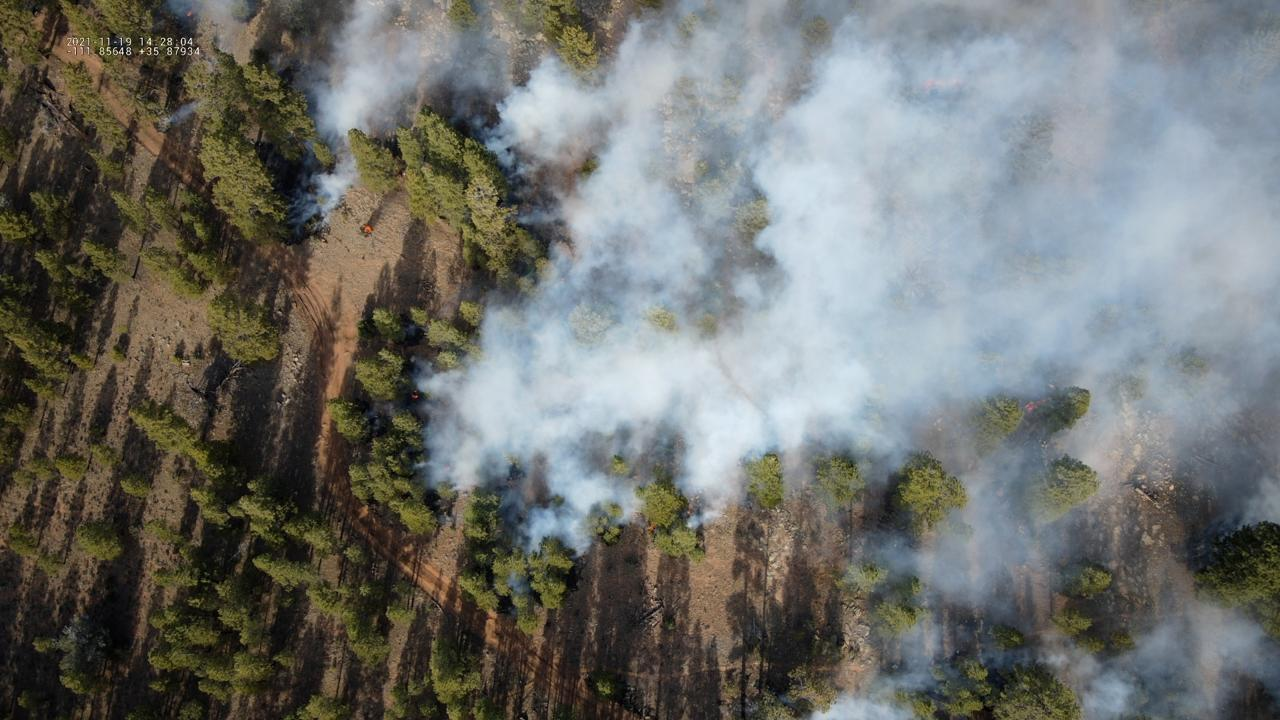fire: (920, 75, 967, 89), (1022, 399, 1040, 414), (363, 224, 373, 234), (186, 10, 193, 17), (412, 393, 418, 399)
smoke: (282, 0, 1280, 720), (156, 0, 253, 52), (159, 99, 203, 130)
